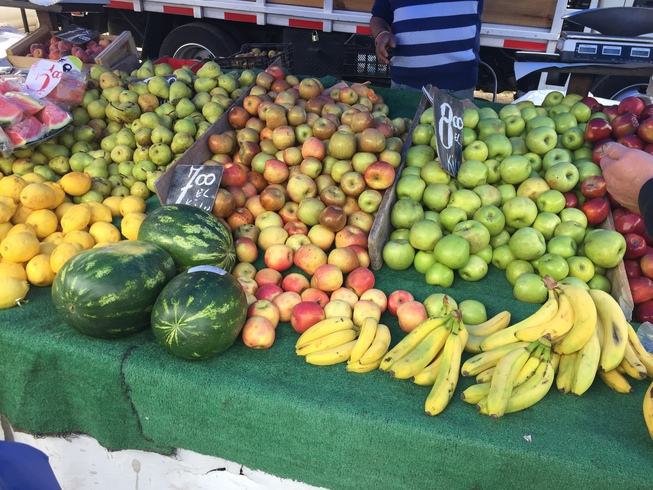precio: (427, 82, 475, 184), (161, 154, 227, 219)
